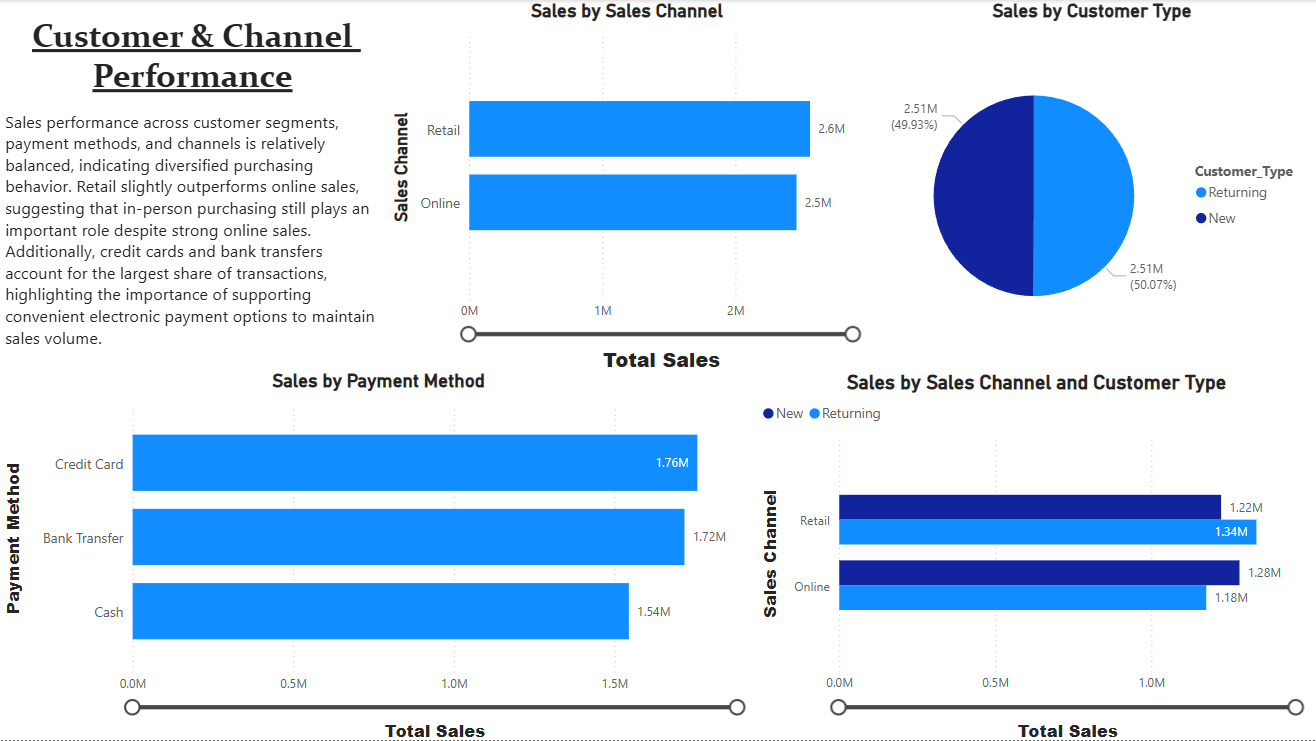

What the dashboard file says about the page in this screenshot:
{"tool":"powerbi","page":{"name":"Page 3","canvas":[1280,720],"ordinal":2},"visuals":[{"type":"textbox","box":[0,10.7,374.5,91.4],"z":0},{"type":"pieChart","title":"Sales by Customer Type","fields":{"Category":["sales_data.Customer_Type"],"Y":["sales_data.Total Sales"]},"box":[844.3,0,435.7,359.9],"z":1000},{"type":"barChart","title":"Sales by Sales Channel","fields":{"Category":["sales_data.Sales_Channel"],"Y":["sales_data.Total Sales"]},"box":[375.4,0,468.8,359.9],"z":2000},{"type":"barChart","title":"Sales by Payment Method","fields":{"Category":["sales_data.Payment_Method"],"Y":["sales_data.Total Sales"]},"box":[0,359.9,736.3,359.9],"z":3000},{"type":"clusteredBarChart","title":"Sales by Sales Channel and Customer Type","fields":{"Category":["sales_data.Sales_Channel"],"Series":["sales_data.Customer_Type"],"Y":["sales_data.Total Sales"]},"box":[736.3,359.9,543.7,359.9],"z":4000},{"type":"textbox","box":[0,102.1,374.5,257.8],"z":5000}]}

Visuals, with their boxes in screenshot pixels (x1, y1, x2, y2), scaled from the page's 1280x720 canvas onto the 1316x741 screenshot:
textbox: 0,11,385,105
"Sales by Customer Type" pieChart: 868,0,1315,370
"Sales by Sales Channel" barChart: 386,0,868,370
"Sales by Payment Method" barChart: 0,370,757,740
"Sales by Sales Channel and Customer Type" clusteredBarChart: 757,370,1315,740
textbox: 0,105,385,370
